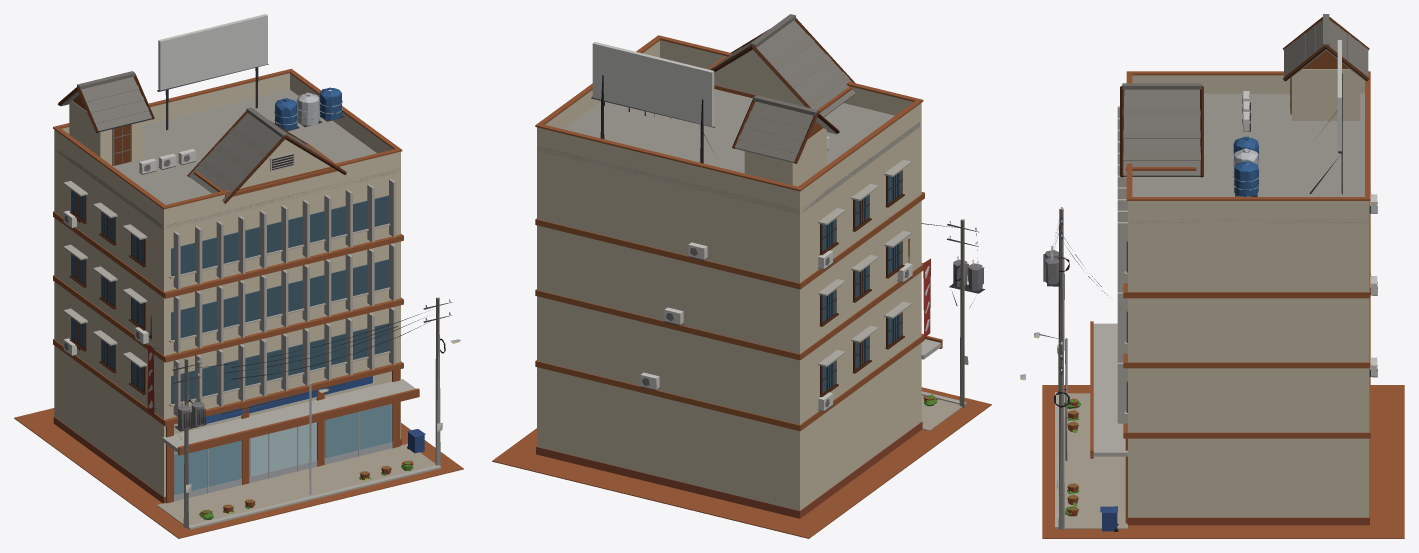
The model's file is shop_4.glb.
3 views of the same model, side by side, from view 1: azimuth 30°, elevation 25°; view 2: azimuth 150°, elevation 25°; view 3: azimuth 270°, elevation 25° (orthographic). The views are drawn at different scales.
Visible parts, largest first — view 1: body, windows; view 2: body, windows; view 3: body.
Part boxes in pixels (left/top/right/bottom): body: left=14, top=14, right=463, bottom=538; windows: left=72, top=154, right=459, bottom=403; body: left=492, top=14, right=991, bottom=538; windows: left=822, top=170, right=901, bottom=393; body: left=1020, top=14, right=1404, bottom=538.
Bounding box in the file's own units: 15.9 × 20.12 × 16.88.
